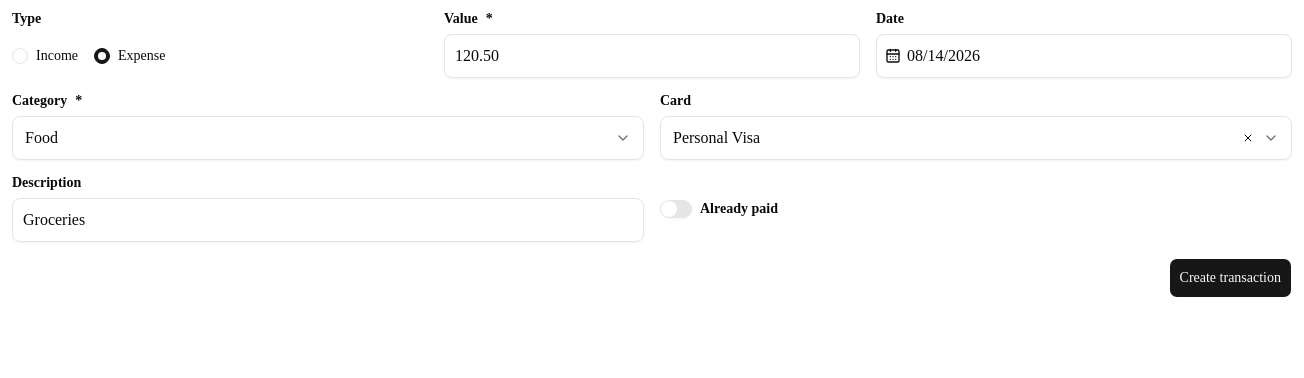
it: TransactionForm › renders the action's error rather than navigating
Click the button "Create transaction". click: (1230, 278)
box: [1168, 258, 1292, 298]
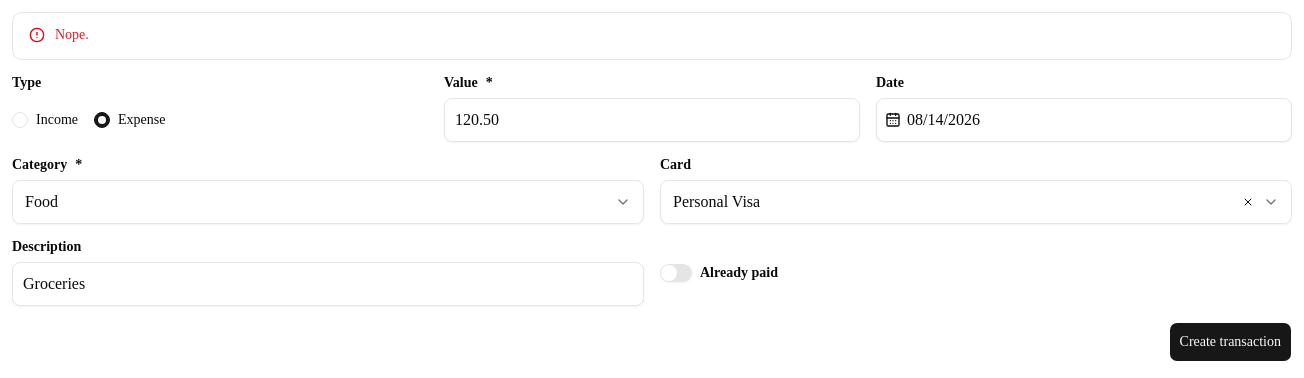
Expected: the text "Nope." is shown, [55, 27, 89, 42]
